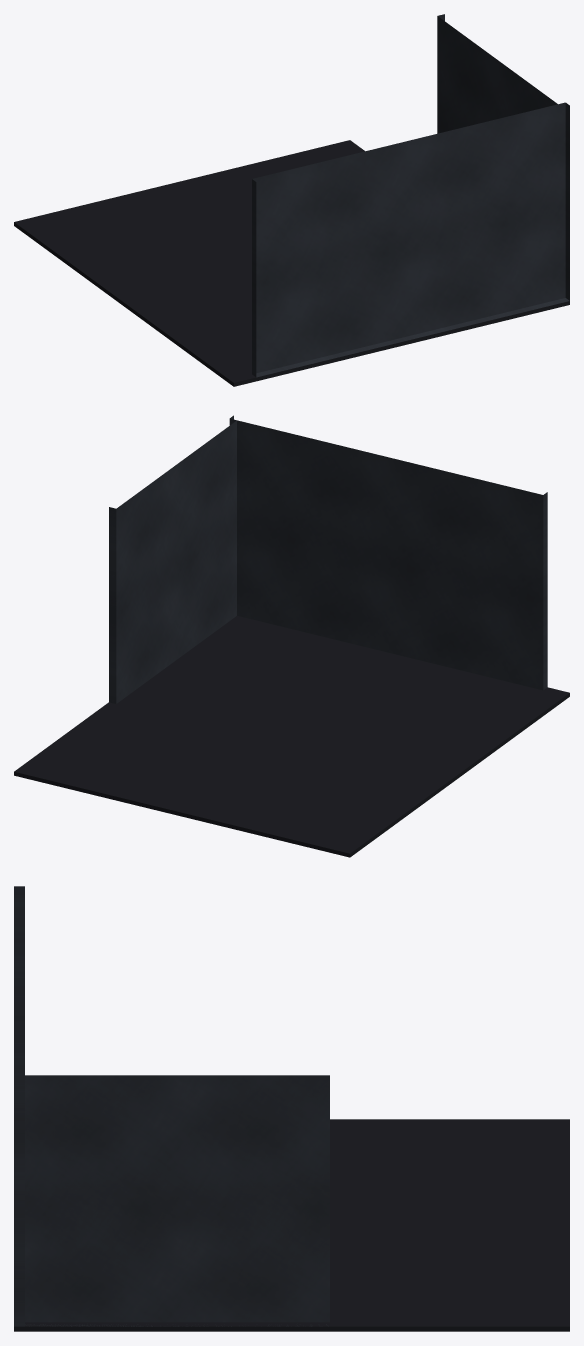
File: room.glb
3 views of the same model, one above another, from view 1: azimuth 30°, elevation 25°; view 2: azimuth 150°, elevation 25°; view 3: azimuth 270°, elevation 25° (orthographic). The views are drawn at different scales.
Visible parts, largest first — view 1: room_back_wall, room_floor, room_left_wall; view 2: room_floor, room_back_wall, room_left_wall; view 3: room_left_wall, room_floor, room_back_wall.
Boxes of the visible parts, x1,y1,x2,y2 form: room_back_wall: [252, 102, 569, 377]; room_floor: [14, 140, 569, 386]; room_left_wall: [437, 14, 564, 151]; room_floor: [14, 616, 569, 857]; room_back_wall: [229, 415, 547, 690]; room_left_wall: [109, 419, 236, 703]; room_left_wall: [25, 1075, 329, 1326]; room_floor: [14, 1119, 569, 1331]; room_back_wall: [14, 886, 24, 1326].
Size of the model in its own units: 4.5 by 2.55 by 5.1.
Materials: 2 (1 with a texture image).
